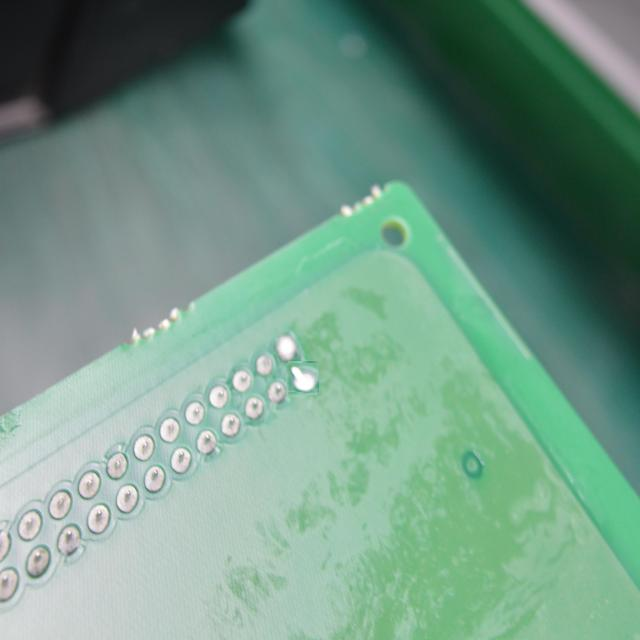slug: (287, 362, 318, 394), (275, 328, 298, 364)
